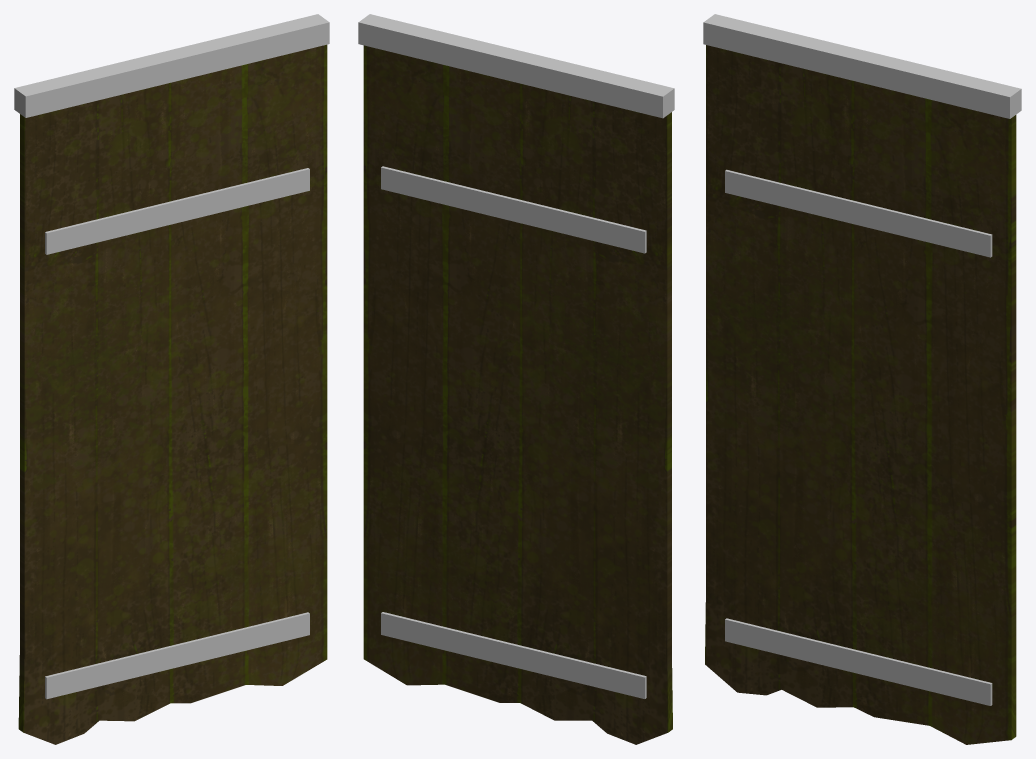
Rendered from SerralheriaPorta_30mai 1.fbx.
The picture shows the model from 3 angles, left to right: view 1: azimuth 30°, elevation 25°; view 2: azimuth 150°, elevation 25°; view 3: azimuth 330°, elevation 25°; orthographic projection.
Visible parts, largest first — view 1: pCube959; view 2: pCube959; view 3: pCube959.
Boxes of the visible parts, <box> form: pCube959: <box>14,14,329,744</box>; pCube959: <box>358,14,674,744</box>; pCube959: <box>703,14,1021,744</box>.
Size of the model in its own units: 115 by 237 by 7.47.
